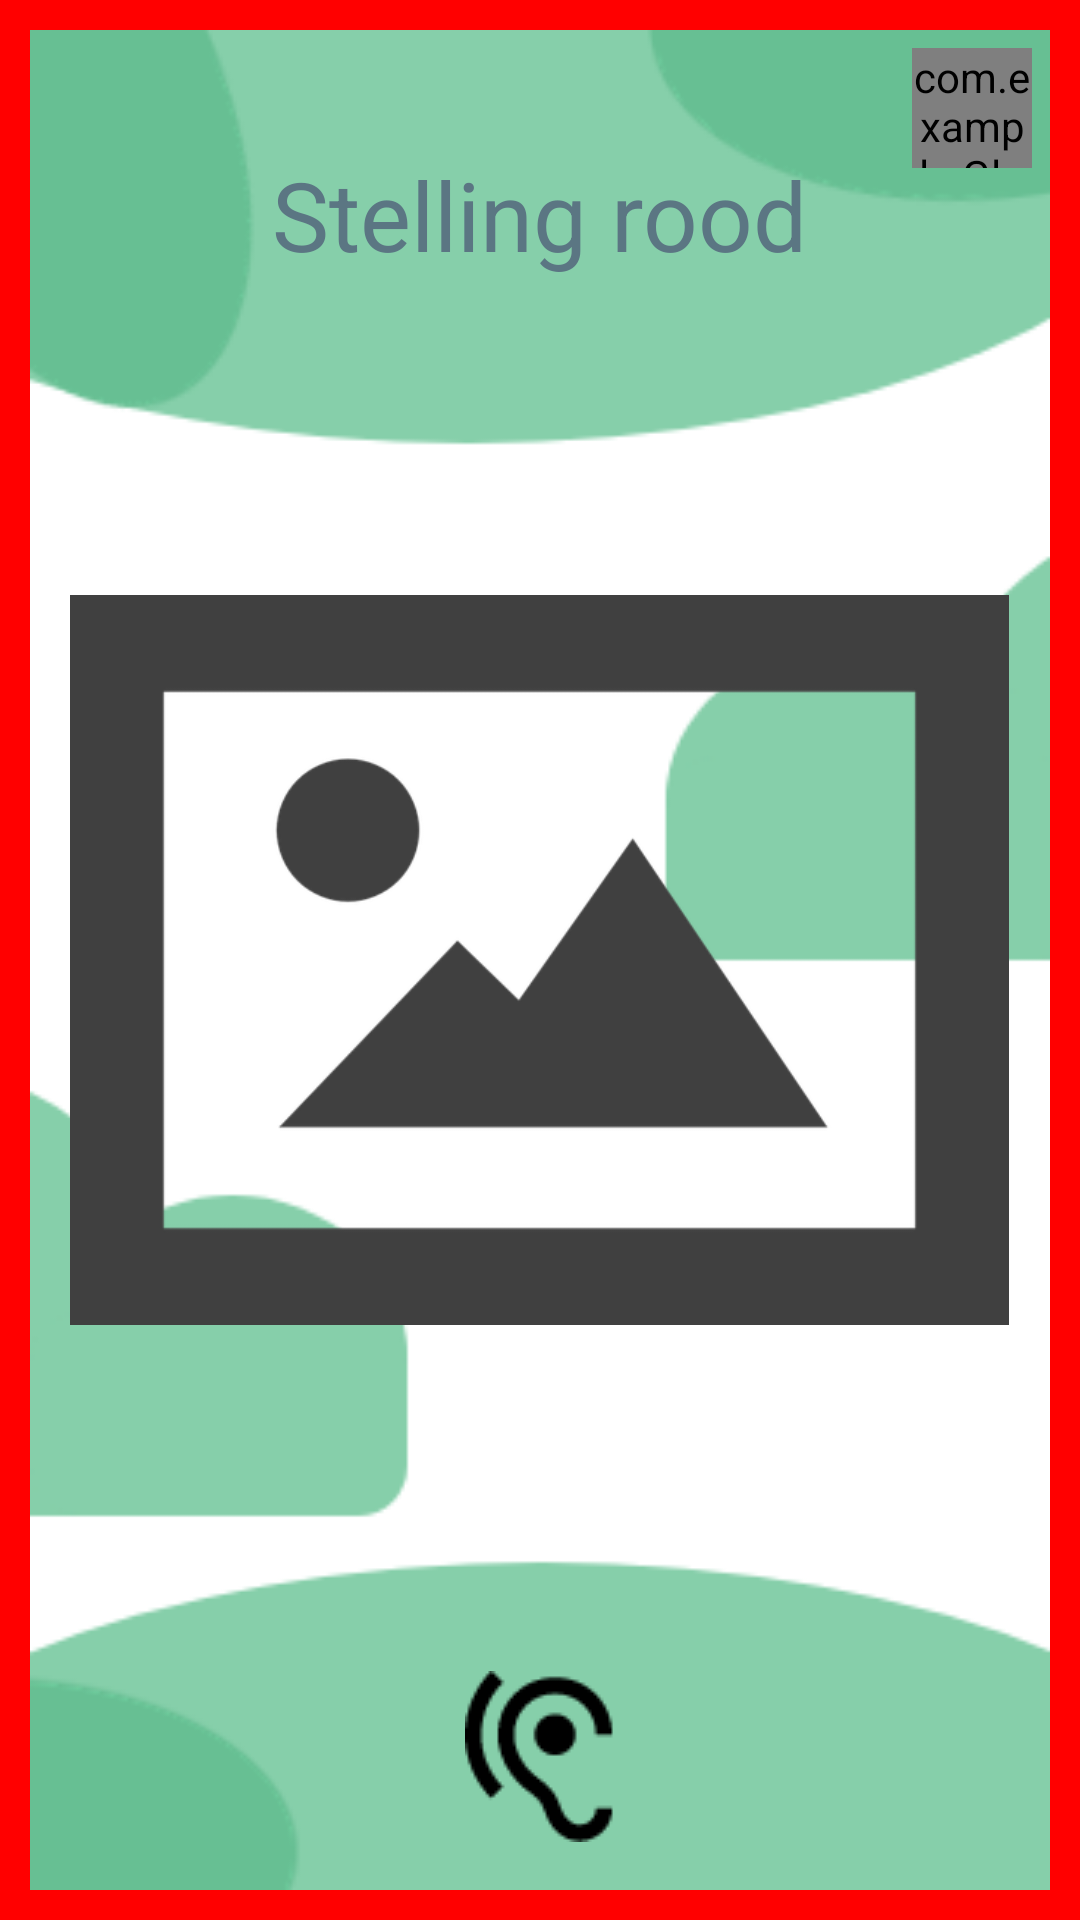

Screen size 1080x1920. Icon name, then its center in pixels as point (x, y):
pictogram oortje: point (539, 1756)
